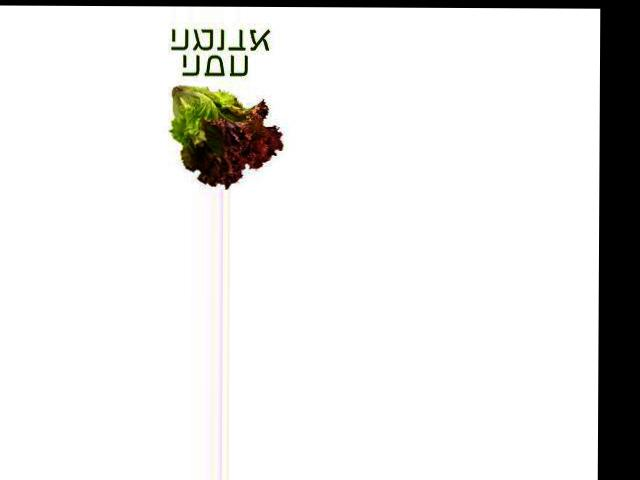lettuce: (135, 9, 271, 179)
